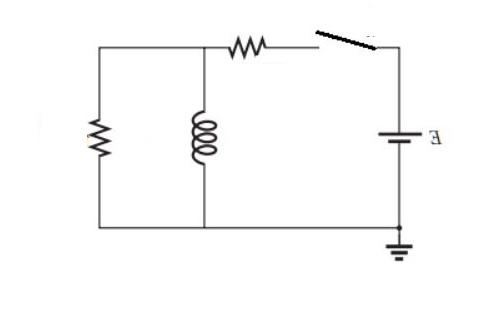resistor: (221, 25, 280, 66)
